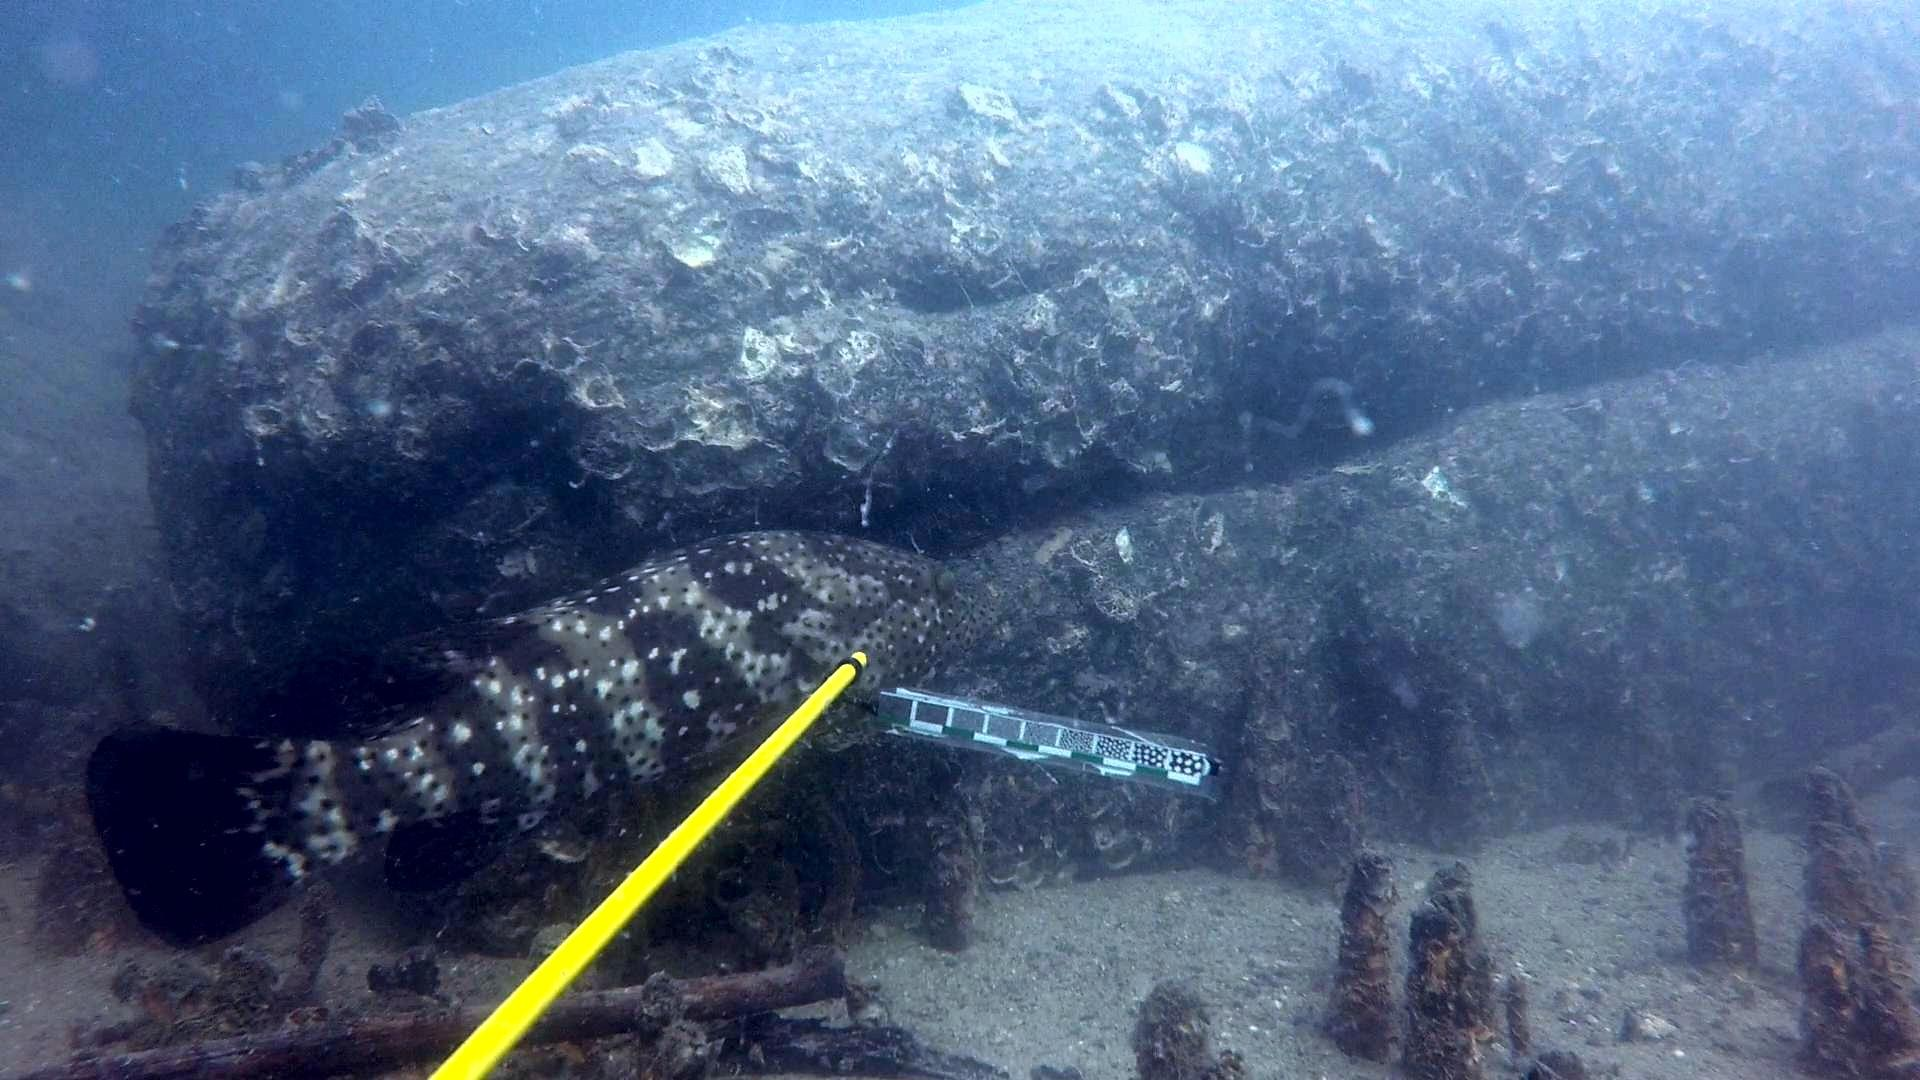epinephelus: (79, 526, 1005, 956)
